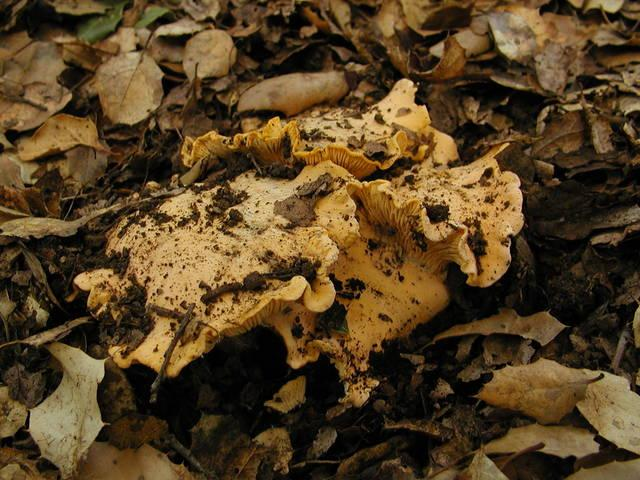edible_mushroom: (71, 78, 525, 411)
